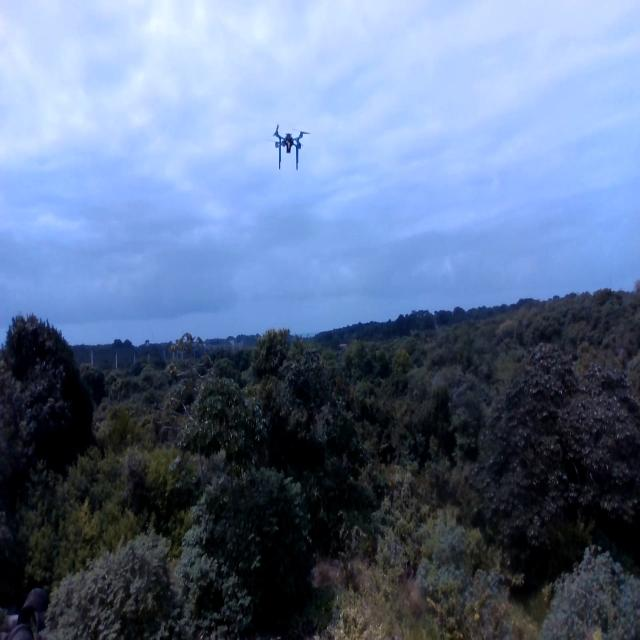-uav-: (265, 114, 313, 178)
